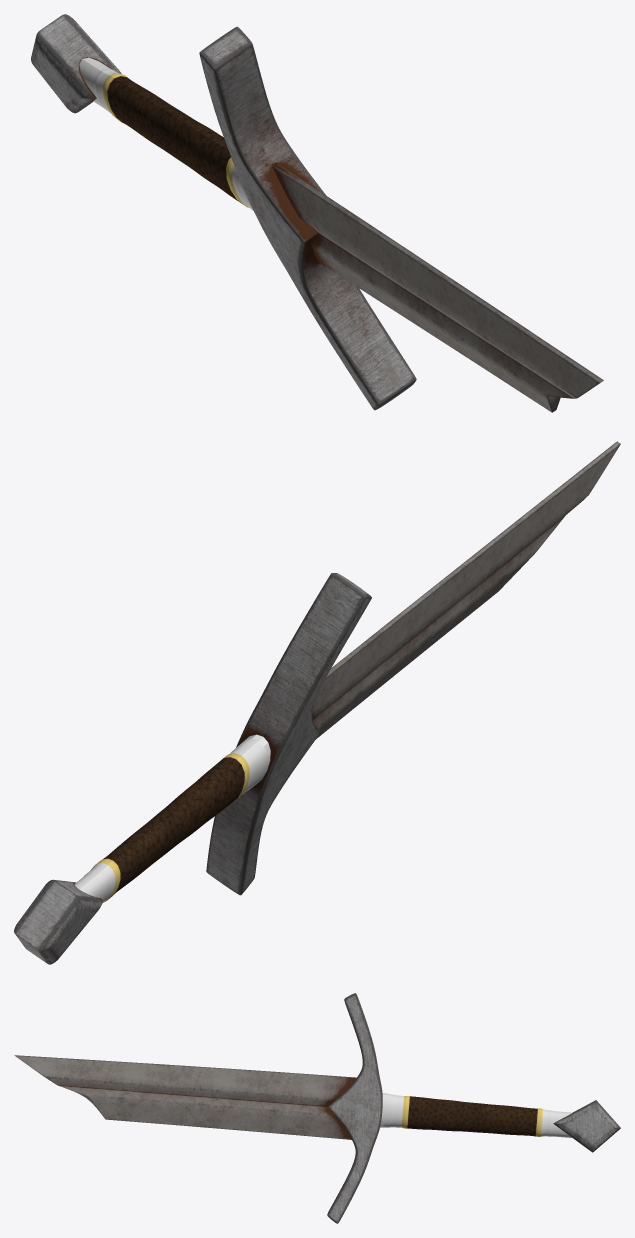
Rendered from espada.glb.
3 views of the same model, one above another, from view 1: azimuth 30°, elevation 25°; view 2: azimuth 150°, elevation 25°; view 3: azimuth 270°, elevation 25° (orthographic). The views are drawn at different scales.
Visible parts, largest first — view 1: Cube.007; view 2: Cube.007; view 3: Cube.007.
Part boxes in pixels (x1,y1,x2,y2): Cube.007: (31,14,603,412); Cube.007: (14,441,620,964); Cube.007: (14,993,620,1223).
Bounding box in the file's own units: 0.9332 × 1.83 × 5.04.
Materials: 1 (1 with a texture image).
